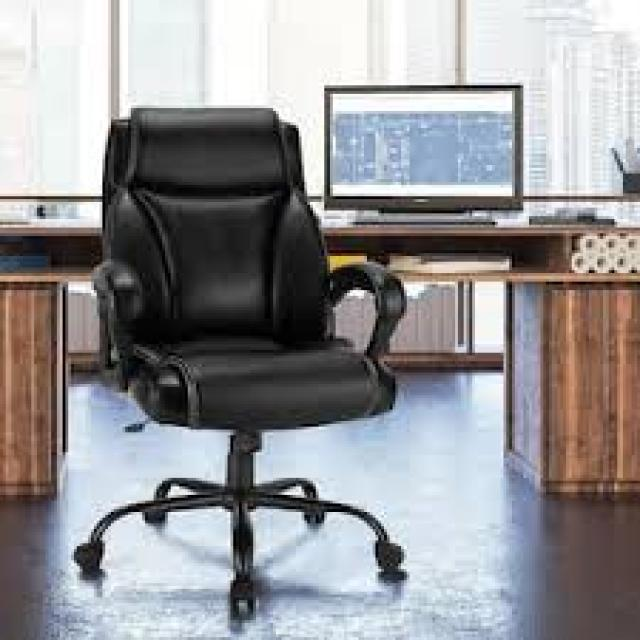chair: (51, 81, 443, 640)
